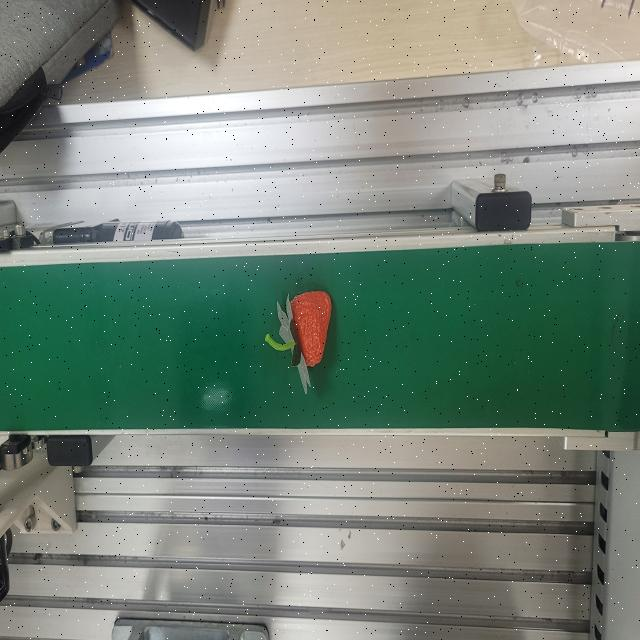Small Ripe Strawberry: (288, 286, 334, 372)
